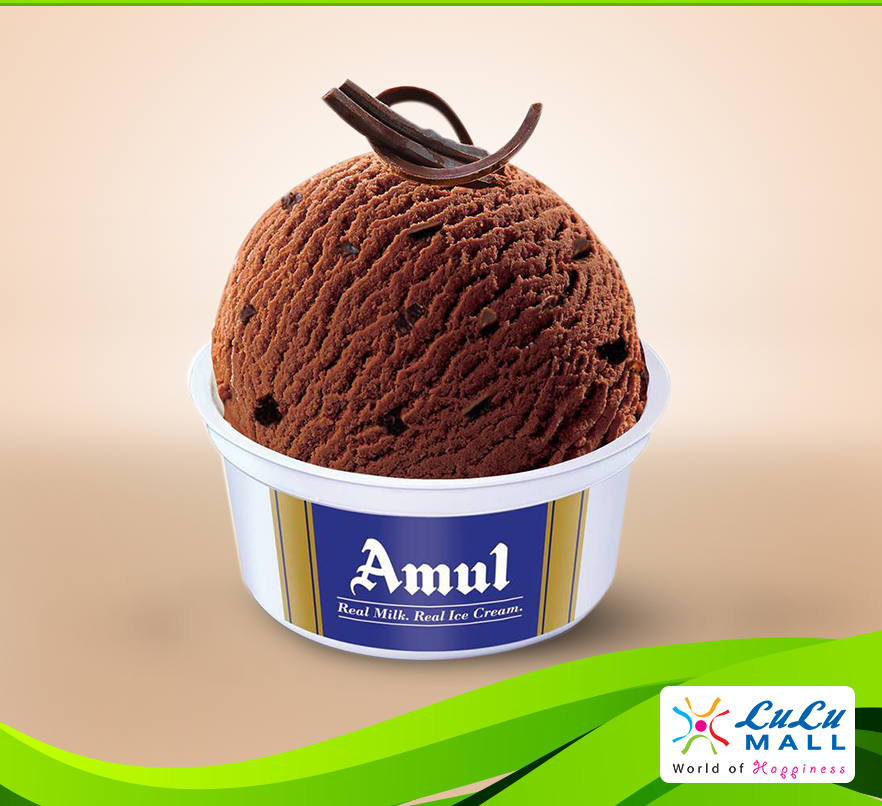Amul: (327, 529, 529, 603)
